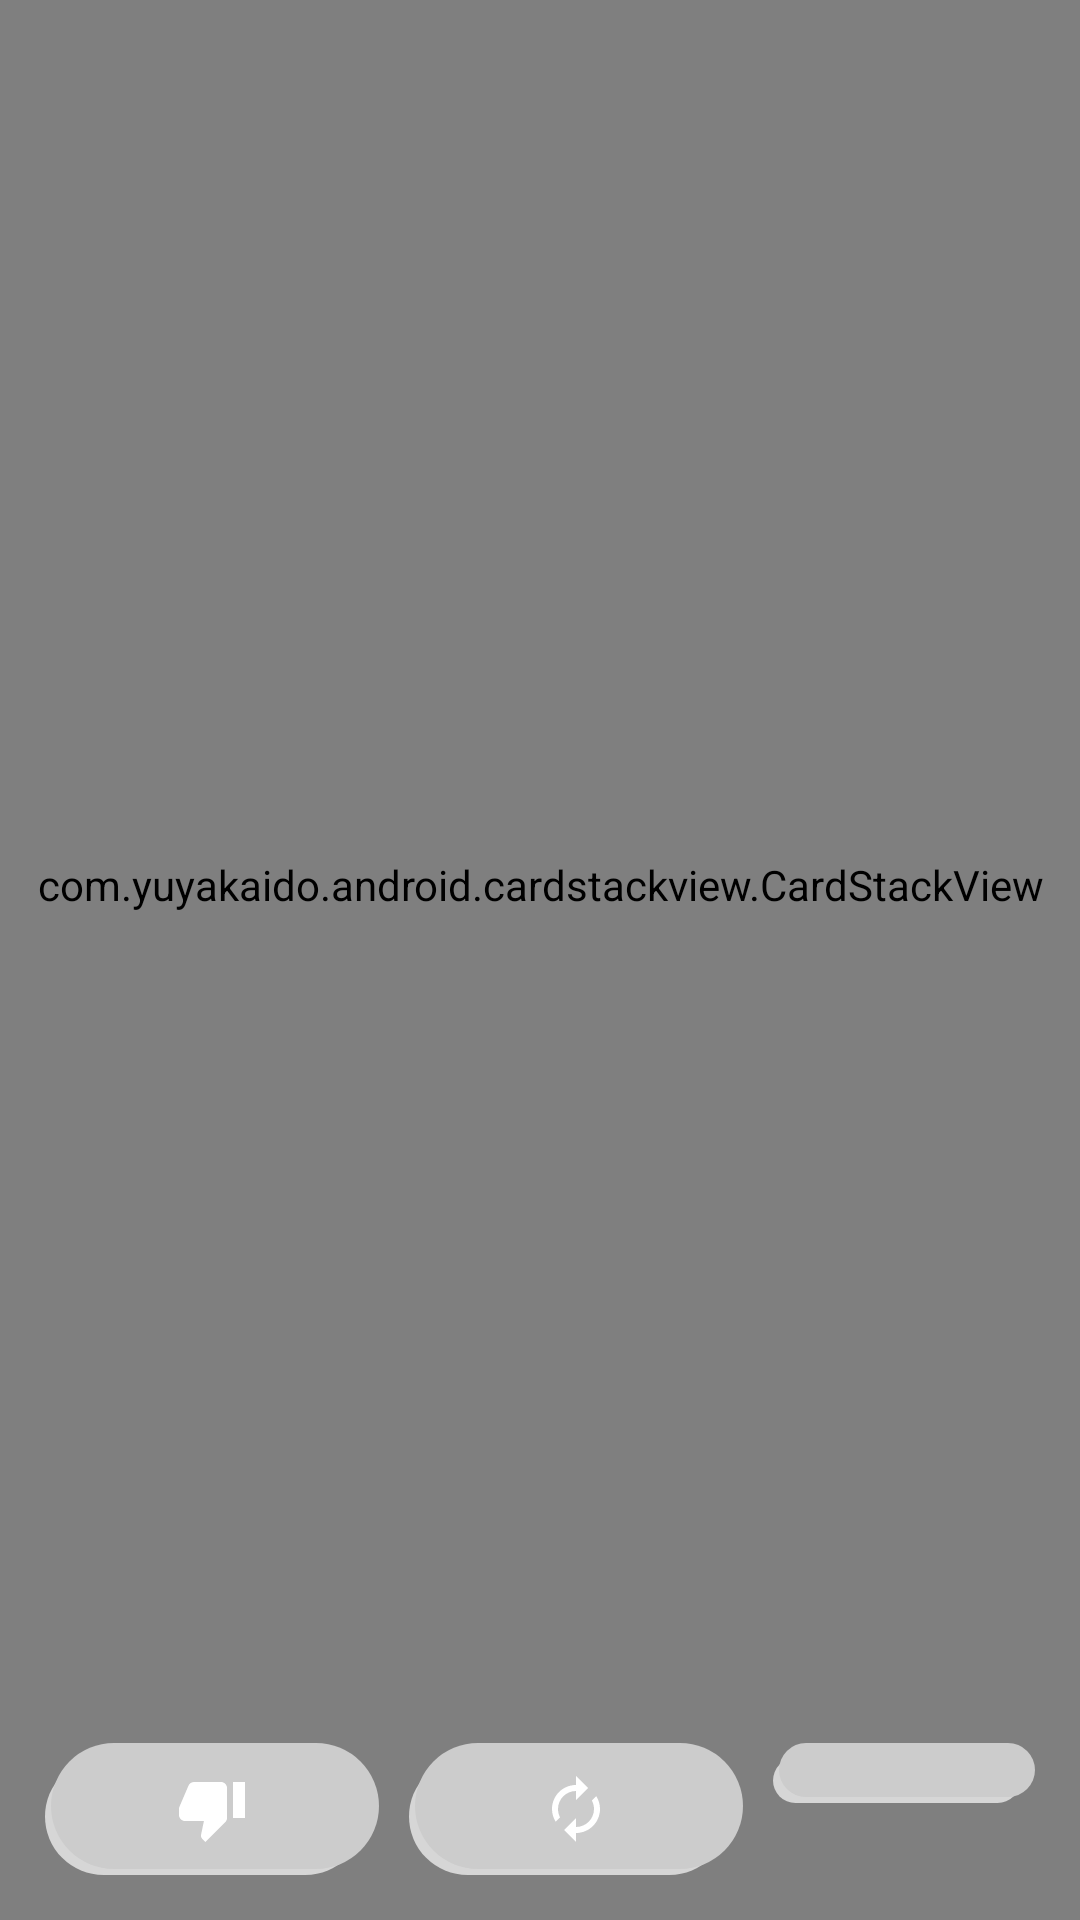

Icons on this 1080px x 1920px Android screen, each with its box as (left=x1, top=y1, right=x2, bottom=y2):
Dislike: (left=45, top=1743, right=379, bottom=1875)
Reload: (left=409, top=1743, right=743, bottom=1875)
